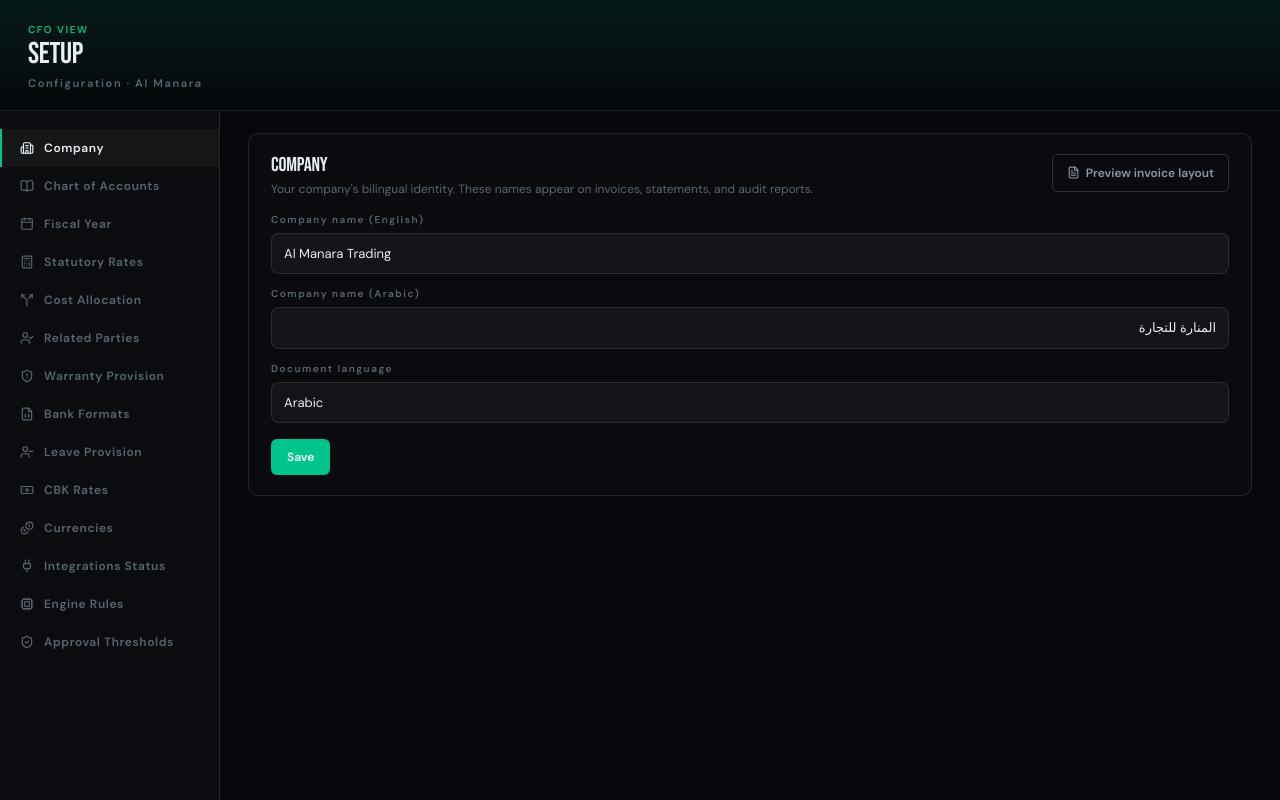
Test case: HASEEB-448 — SetupScreen onboarding polish › invoice preview: doc-language=ar renders only the RTL facsimile
Expected: the field with test id "company-name-en" is shown, [271,232,1229,274]
Click the button with test id "company-preview-button".
click(1140, 172)  # box [1052,154,1229,192]
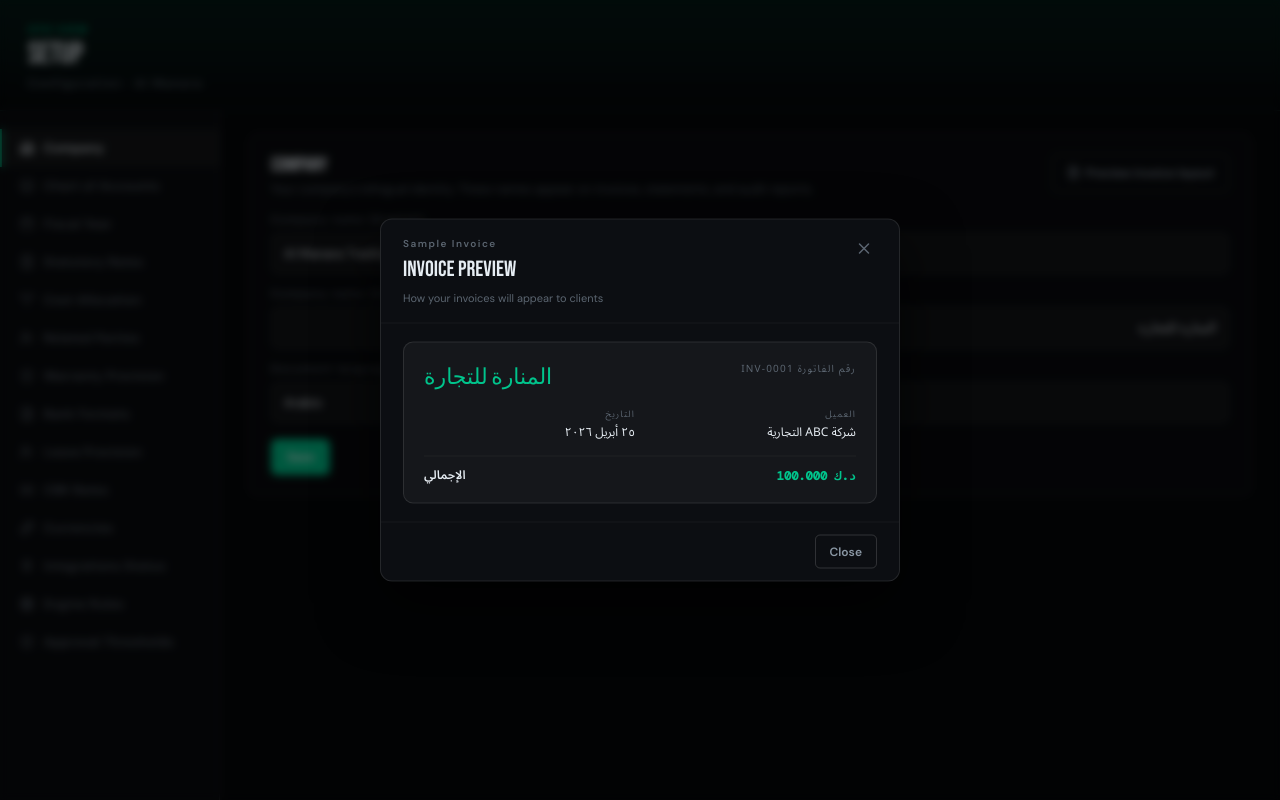
Result: the element with test id "invoice-facsimile-ar" is shown at [403,341,877,504]
